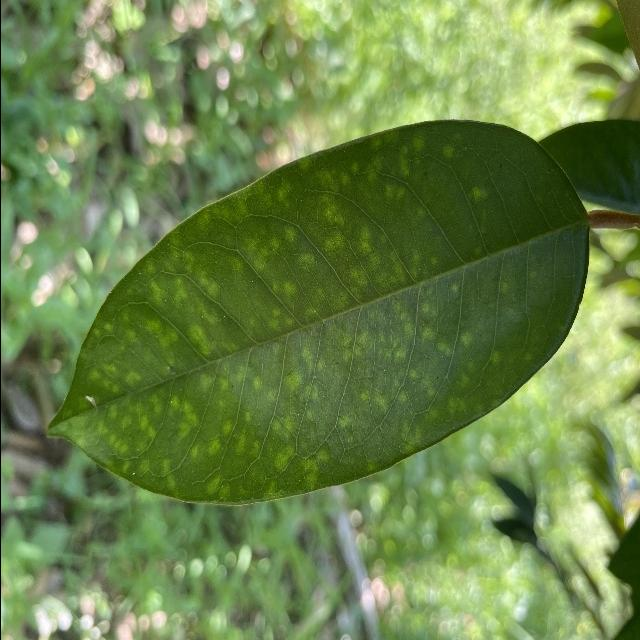Leaf Spot: (53, 111, 599, 519)
